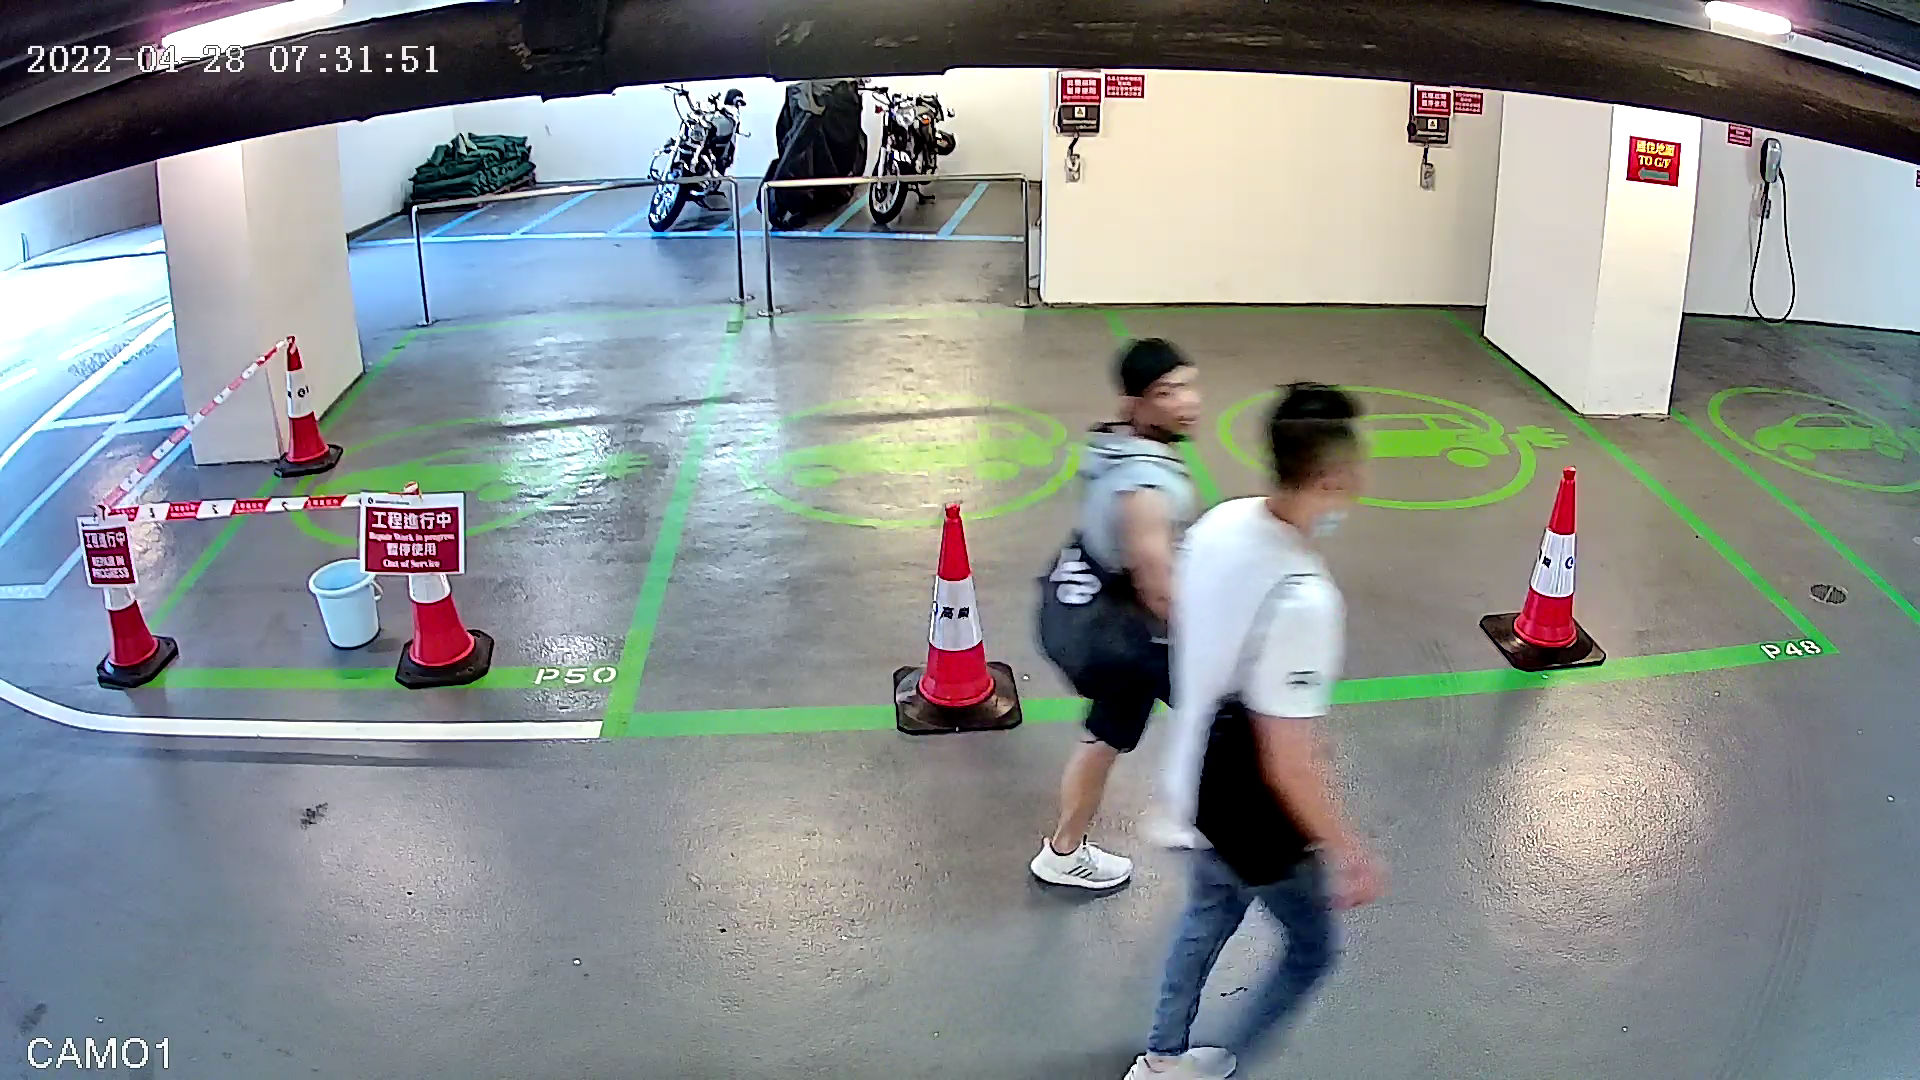space: (595, 285, 1298, 794), (1089, 265, 1855, 728)
